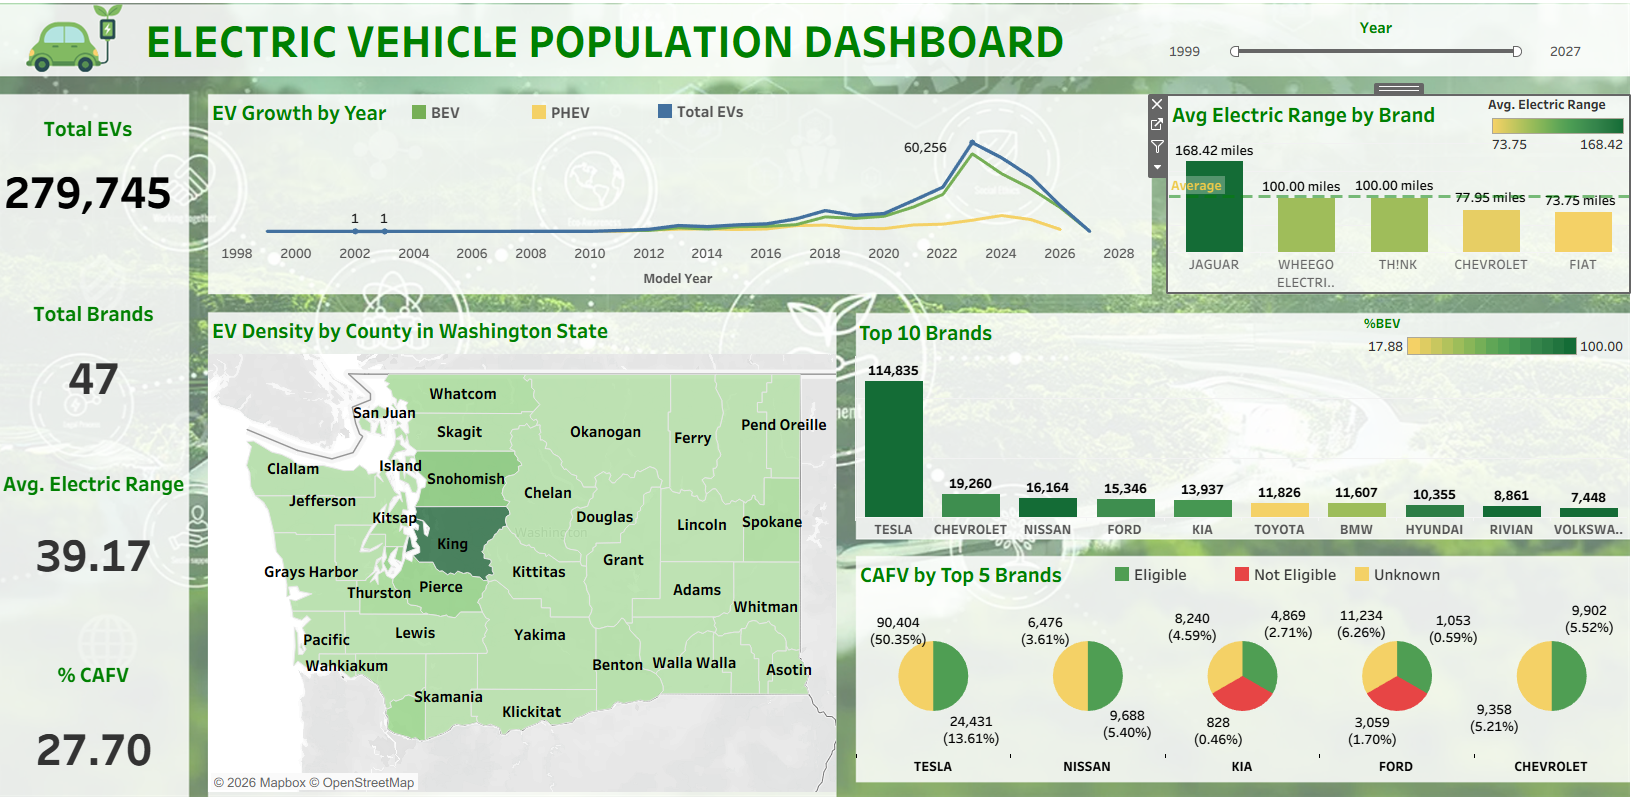

The dashboard page shown, as its layout file describes it:
{"tool":"tableau","page":{"name":"Dashboard 1","canvas":[1000,1000],"units":"permille","ordinal":0},"visuals":[{"type":"image","param":"C:/Users/win/Downloads/Untitled design.png","box":[4.8,9.4,990.3,981.2]},{"type":"text","box":[94.2,35.2,580,79.9]},{"type":"filter","title":"EV Growth by Year","param":"[federated.0f9p8th1s45asq106ihh310k7rnd].[none:Model Year:qk]","box":[698.2,49.4,281.2,76.4]},{"type":"worksheet","title":"Total EVs","mark":"Automatic","box":[7.2,139.8,115.3,168]},{"type":"worksheet","title":"EV Growth by Year","mark":"Line","rows":["VIN","Calculation_0229316640989185"],"cols":["Model Year"],"box":[134,139.8,567.3,235]},{"type":"legend","title":"Avg Electric Range by Brand","param":"[federated.0f9p8th1s45asq106ihh310k7rnd].[avg:Electric Range:qk]","box":[906.5,141,84.5,103.4]},{"type":"worksheet","title":"Avg Electric Range by Brand","mark":"Automatic","rows":["Electric Range"],"cols":["Make"],"box":[713.3,142.2,278.8,230.3]},{"type":"legend","title":"EV Growth by Year","param":"[federated.0f9p8th1s45asq106ihh310k7rnd].[:Measure Names]","box":[403.7,148.1,84.5,29.4]},{"type":"legend","title":"EV Growth by Year","param":"[federated.0f9p8th1s45asq106ihh310k7rnd].[none:EV Type:nk]","box":[255.3,149.2,236.6,55.2]},{"type":"worksheet","title":"Total Brands","mark":"Automatic","box":[7.2,371.3,115.3,150.4]},{"type":"worksheet","title":"Top 10 Brands","mark":"Automatic","rows":["VIN"],"cols":["Make"],"box":[524.4,398.4,466.5,264.4]},{"type":"legend","title":"Top 10 Brands","param":"[federated.0f9p8th1s45asq106ihh310k7rnd].[usr:Calculation_0229316656672771:qk]","box":[831.6,398.4,159.3,103.4]},{"type":"worksheet","title":"EV Density by County in Washington State","mark":"Multipolygon","box":[129.2,403.1,379,564]},{"type":"worksheet","title":"Avg. Electric Range","mark":"Automatic","box":[7.9,568.7,114.1,165.7]},{"type":"worksheet","title":"CAFV by Top 5 Brands","mark":"Pie","rows":["Calculation_0229316667858949"],"cols":["Make"],"box":[525,682.7,466.5,292.6]},{"type":"legend","title":"CAFV by Top 5 Brands","param":"[federated.0f9p8th1s45asq106ihh310k7rnd].[none:CAFV Eligibility:nk]","box":[679.5,692.1,249.8,57.6]},{"type":"worksheet","title":"CAFV Eligible Rate","mark":"Automatic","box":[7.9,790.8,114.1,172.7]}]}

Visuals, with their boxes on the dashboard's canvas, which has no fixed pixel size, in thousandths of its width and height (x1, y1, x2, y2). These are canvas units, not pixel positions in the 1632x797 screenshot, which may show the page scaled, cropped or inside an application window:
image: x1=5, y1=9, x2=995, y2=991
text: x1=94, y1=35, x2=674, y2=115
"EV Growth by Year" filter: x1=698, y1=49, x2=979, y2=126
"Total EVs" worksheet: x1=7, y1=140, x2=122, y2=308
"EV Growth by Year" worksheet (Line marks): x1=134, y1=140, x2=701, y2=375
"Avg Electric Range by Brand" legend: x1=906, y1=141, x2=991, y2=244
"Avg Electric Range by Brand" worksheet: x1=713, y1=142, x2=992, y2=372
"EV Growth by Year" legend: x1=404, y1=148, x2=488, y2=178
"EV Growth by Year" legend: x1=255, y1=149, x2=492, y2=204
"Total Brands" worksheet: x1=7, y1=371, x2=122, y2=522
"Top 10 Brands" worksheet: x1=524, y1=398, x2=991, y2=663
"Top 10 Brands" legend: x1=832, y1=398, x2=991, y2=502
"EV Density by County in Washington State" worksheet (Multipolygon marks): x1=129, y1=403, x2=508, y2=967
"Avg. Electric Range" worksheet: x1=8, y1=569, x2=122, y2=734
"CAFV by Top 5 Brands" worksheet (Pie marks): x1=525, y1=683, x2=992, y2=975
"CAFV by Top 5 Brands" legend: x1=680, y1=692, x2=929, y2=750
"CAFV Eligible Rate" worksheet: x1=8, y1=791, x2=122, y2=964
